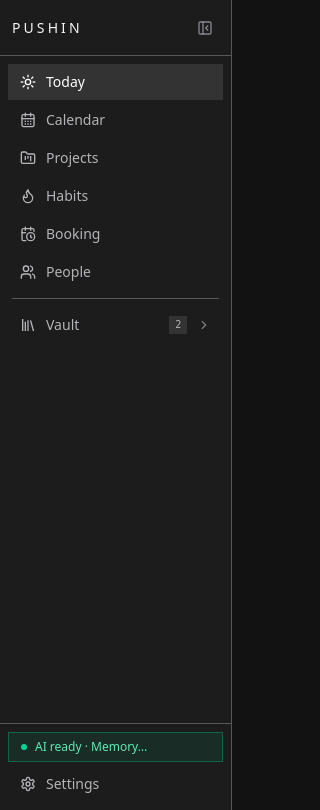
Test case: Sidebar › entering the Vault space reveals the second-brain destinations
Click the text "Vault" at (63, 324), box [46,315,79,334]
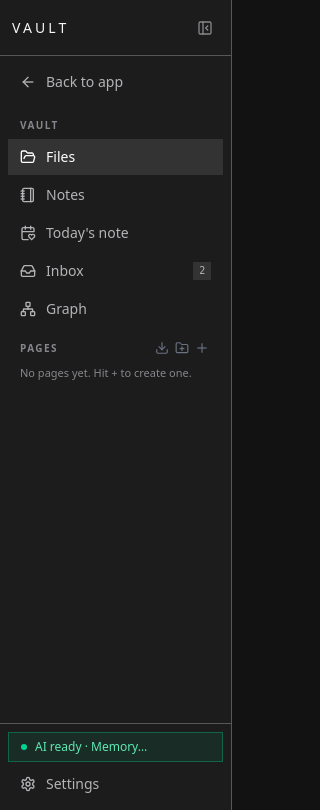
Expected: the text "Back to app" is shown, [46,72,123,91]
Expected: the text "Files" is shown, [46,147,75,166]
Expected: the text "Notes" is shown, [46,185,85,204]
